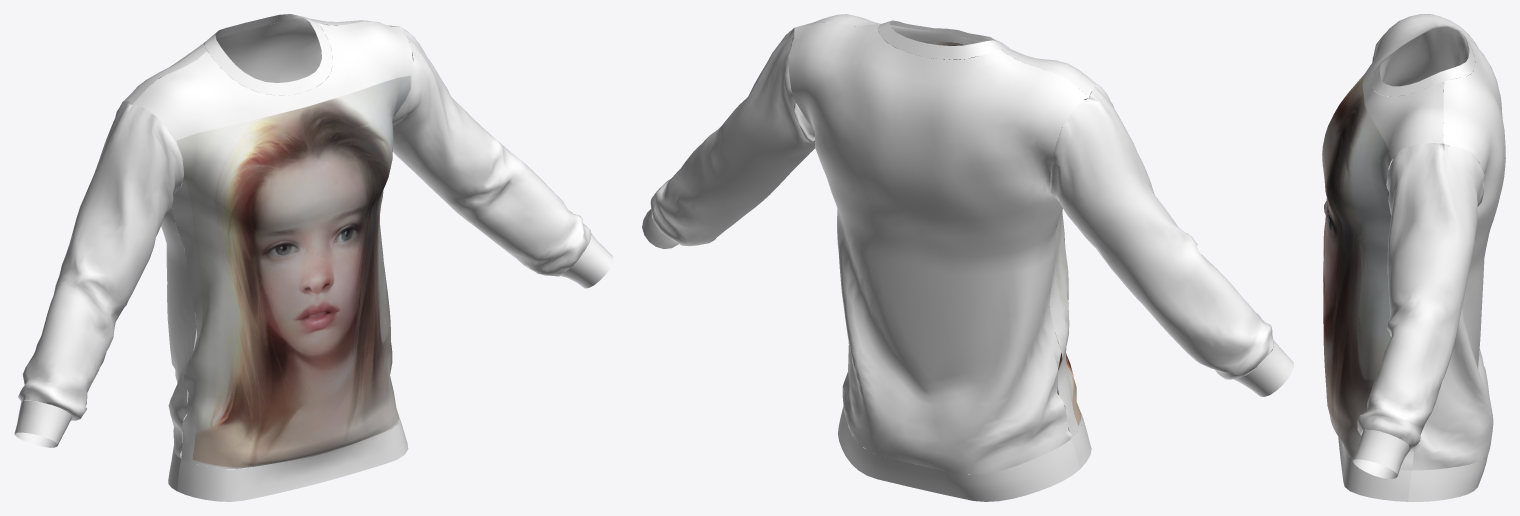
3 views of the same model, side by side, from view 1: azimuth 30°, elevation 25°; view 2: azimuth 150°, elevation 25°; view 3: azimuth 270°, elevation 25° (orthographic). The views are drawn at different scales.
Visible parts, largest first — view 1: bbb; view 2: bbb; view 3: bbb.
Boxes of the visible parts, left/top/right/bottom form: bbb: left=14, top=14, right=613, bottom=501; bbb: left=642, top=14, right=1293, bottom=501; bbb: left=1322, top=14, right=1505, bottom=501.
Bounding box in the file's own units: 105 × 71.44 × 28.43.
Materials: 2 (1 with a texture image).
